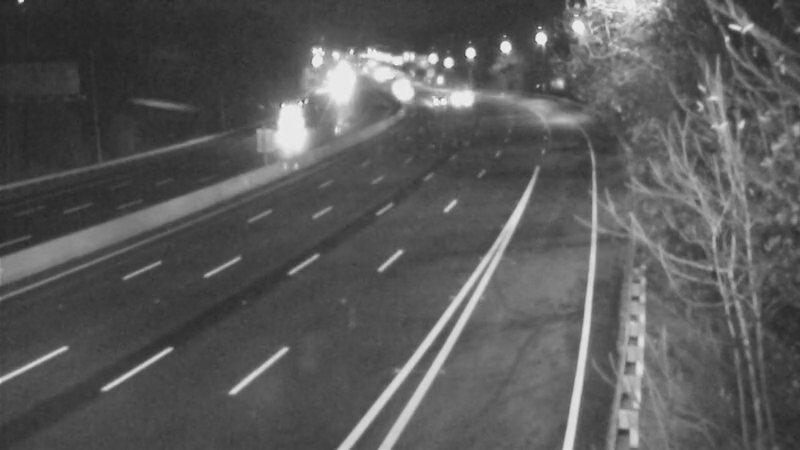vehicle: (383, 69, 433, 119), (429, 70, 479, 120), (409, 76, 459, 126), (262, 99, 312, 149)
